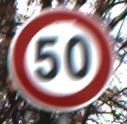Speed Limit -50-: (0, 0, 126, 123)
